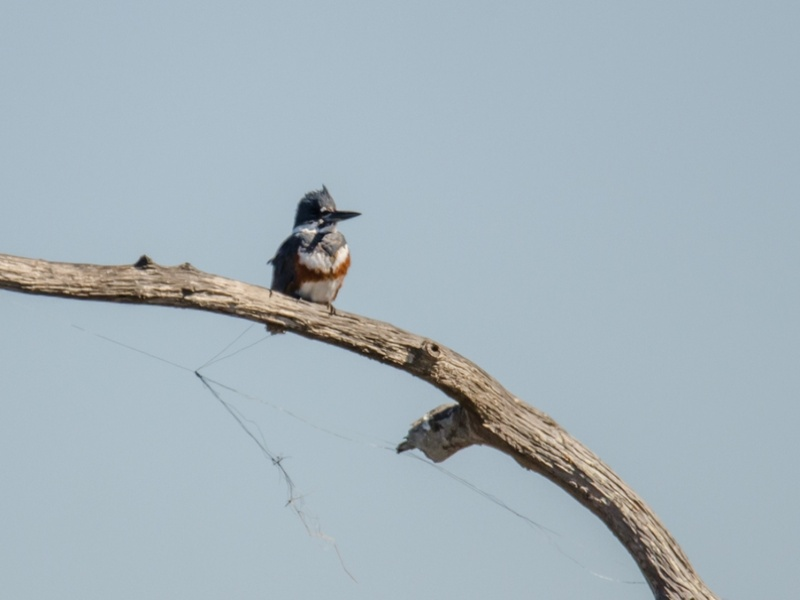kingfisher: (264, 183, 364, 340)
